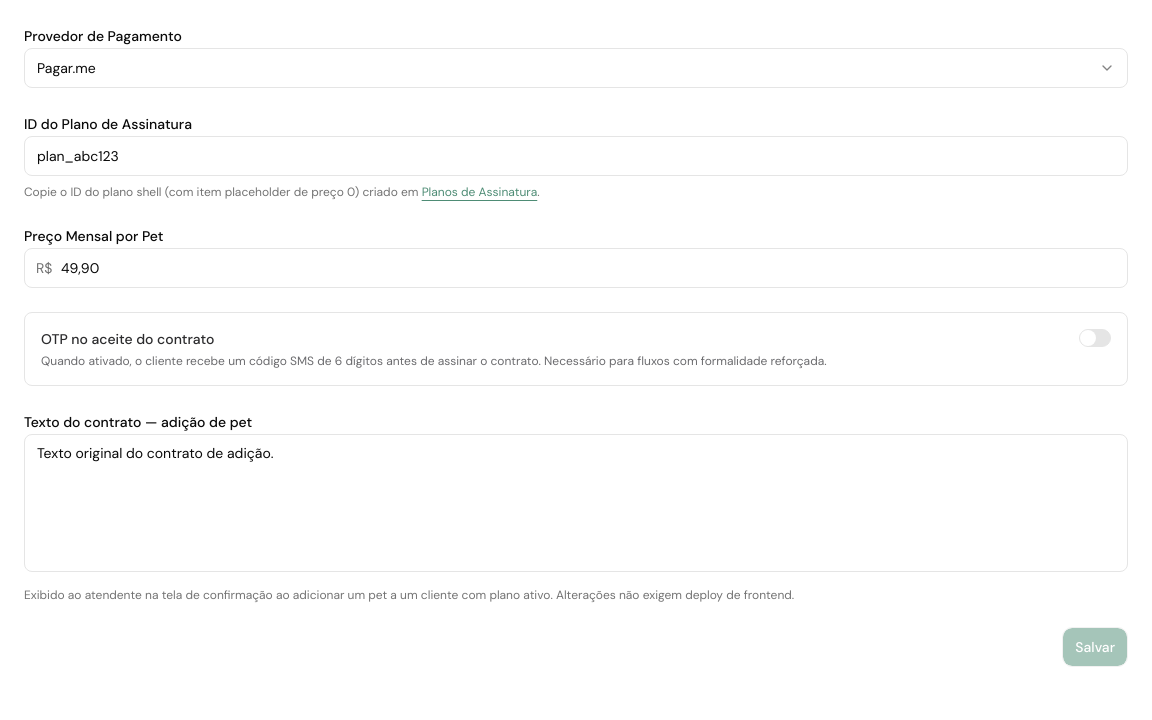
Test: SettingsForm — OTP contract toggle › should enable Salvar when only the OTP switch becomes dirty
The width and height of the screenshot is (1152, 720).
Expected: the button "Salvar" is disabled, [1062,627,1128,667]
Click the switch named "ativar otp no aceite do contrato": (1095, 338) [1079,329,1111,347]
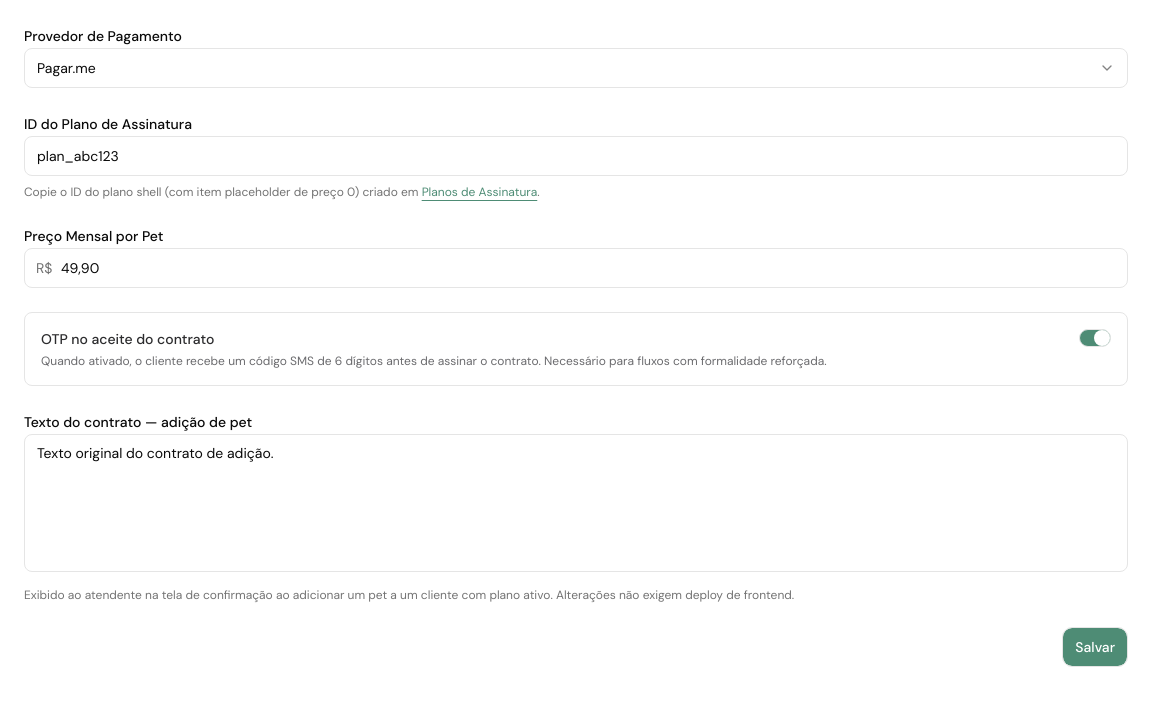
Now the button "Salvar" is enabled, box [1062,627,1128,667]
